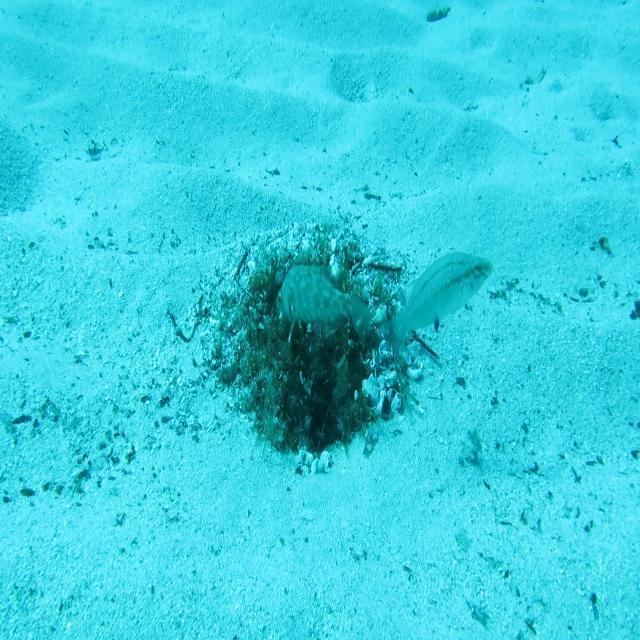NIP_IN: (275, 254, 374, 344)
core_nest: (278, 278, 336, 324)
female: (378, 249, 495, 371)
nest: (198, 210, 432, 483)
vegetation: (424, 6, 453, 26)
